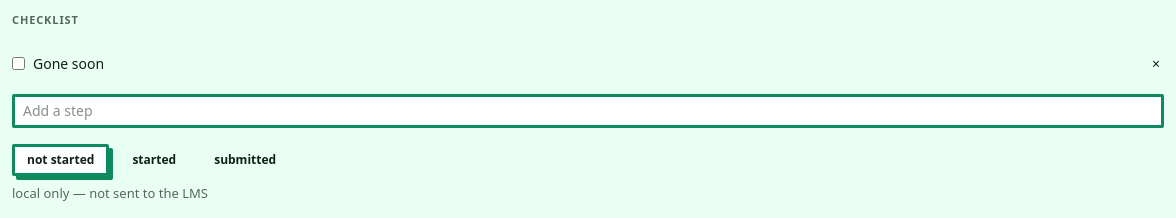
Test: deleting an item removes it
The width and height of the screenshot is (1176, 218).
Click the button named "delete" at [1156, 63], box x1=1148 y1=52 x2=1164 y2=74
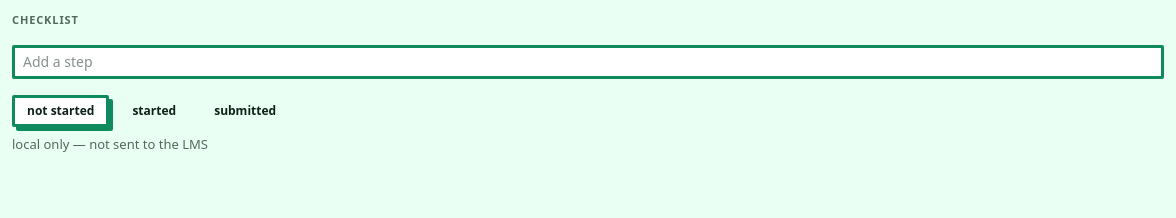
Expected: the text "Gone soon" is gone
